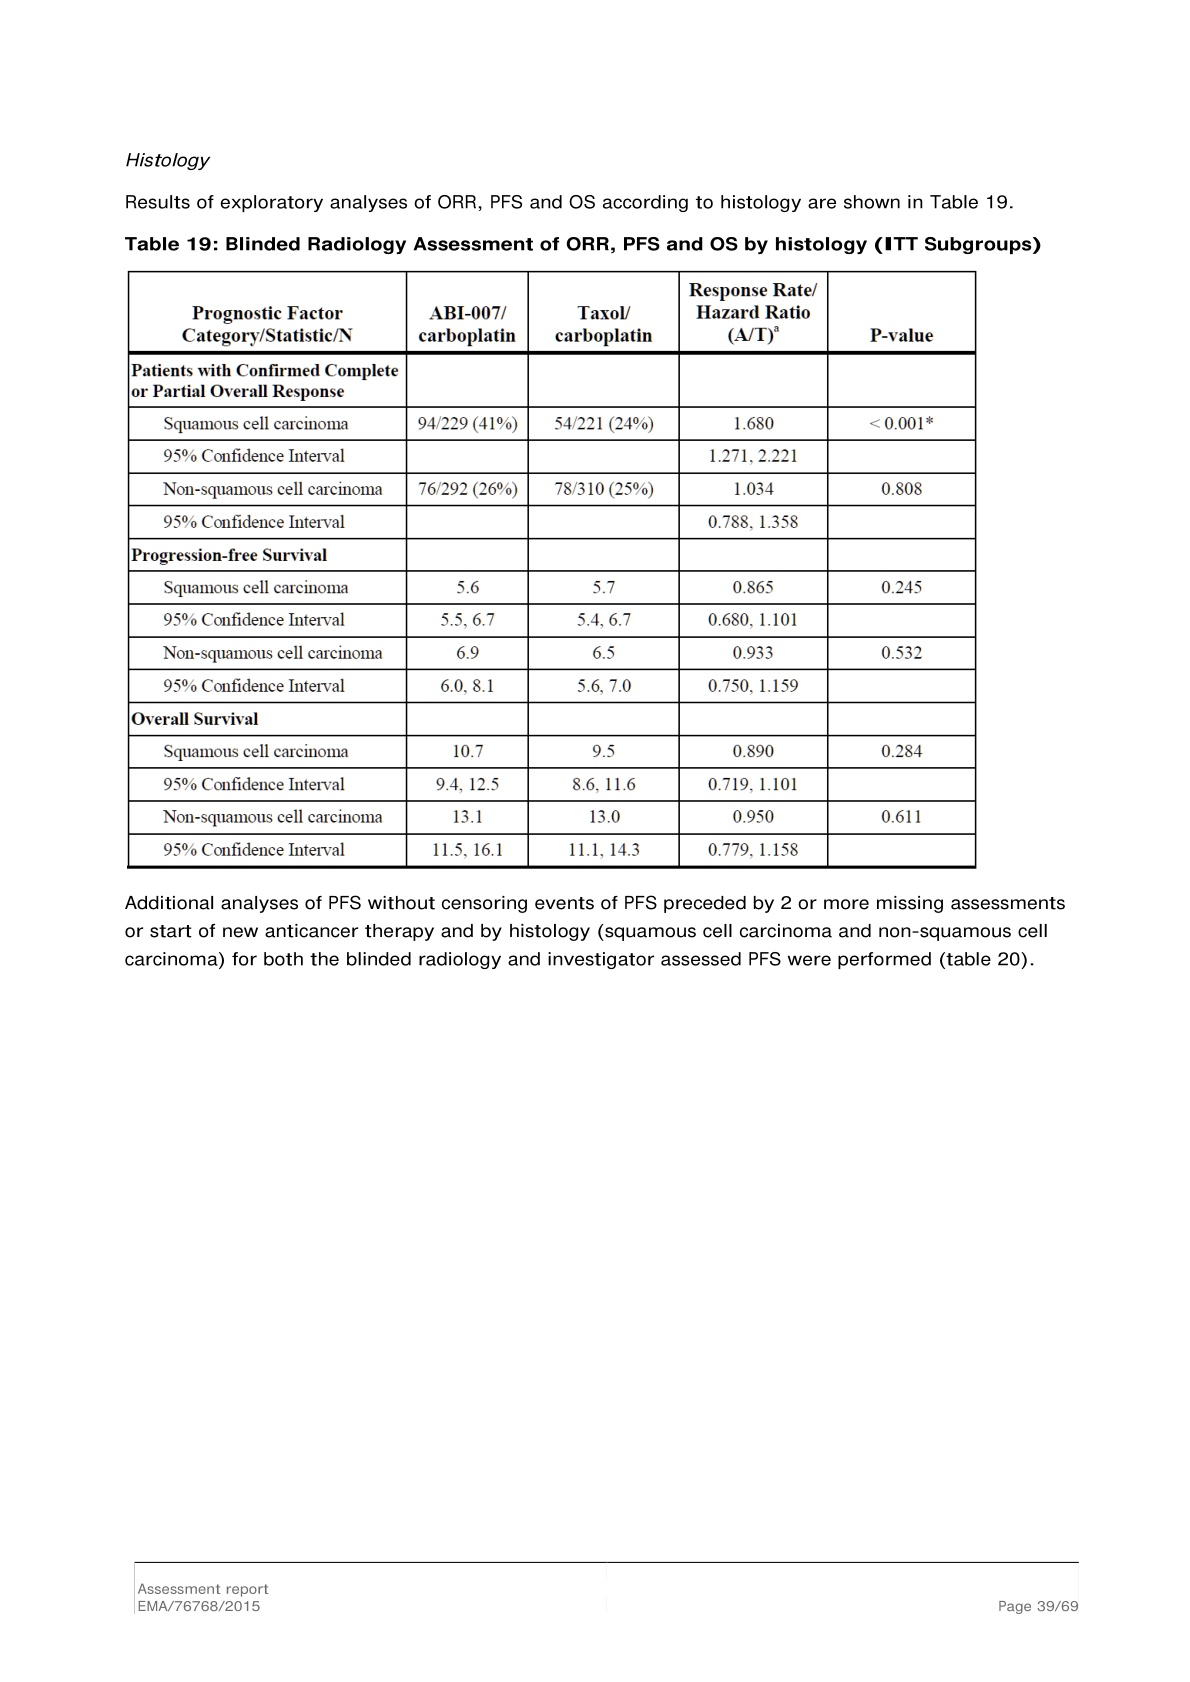full_lined: (127, 269, 977, 871)
